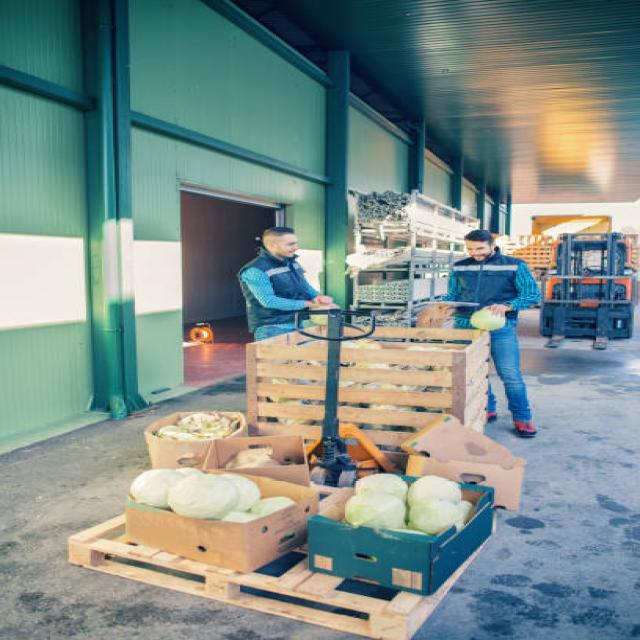Wooden-Pallets: (58, 529, 408, 640)
